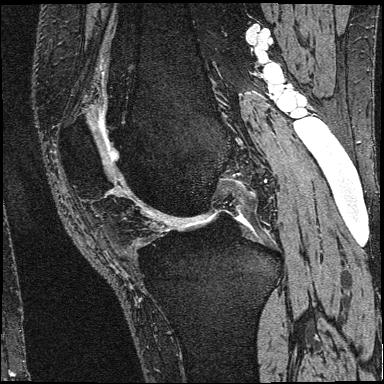SagKneeJointArea: (58, 113, 284, 298)
